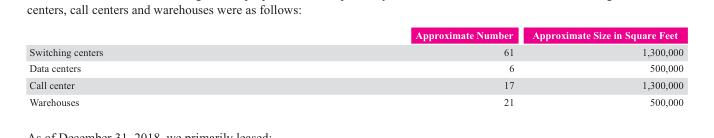table: (28, 28, 682, 107)
table column: (258, 28, 522, 107), (28, 28, 258, 107), (522, 28, 682, 107)
table column header: (28, 28, 682, 42)
table row: (28, 42, 682, 59), (28, 59, 682, 76), (28, 76, 682, 93), (28, 28, 682, 42), (28, 93, 682, 107)
